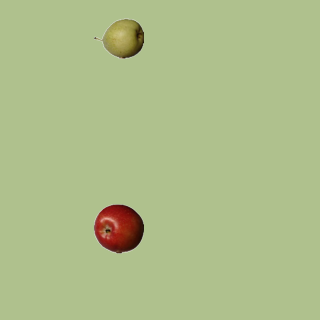Apple Braeburn: (93, 203, 143, 253)
Pear: (93, 13, 143, 63)
